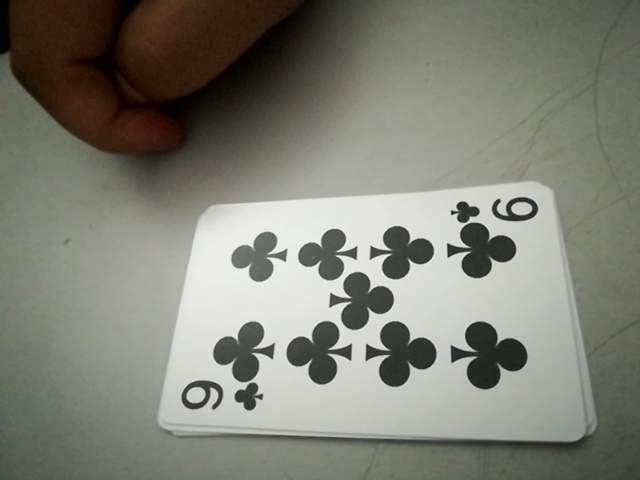mh 9: (171, 374, 269, 426), (450, 189, 546, 228)
